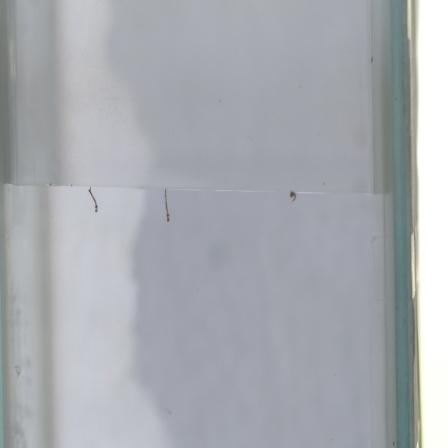Jentik-Nyamuk: (157, 188, 177, 228), (83, 187, 101, 217)
